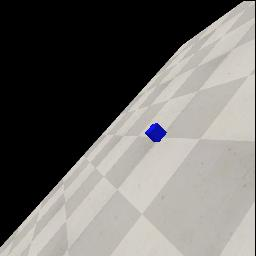box: (145, 123, 167, 142)
